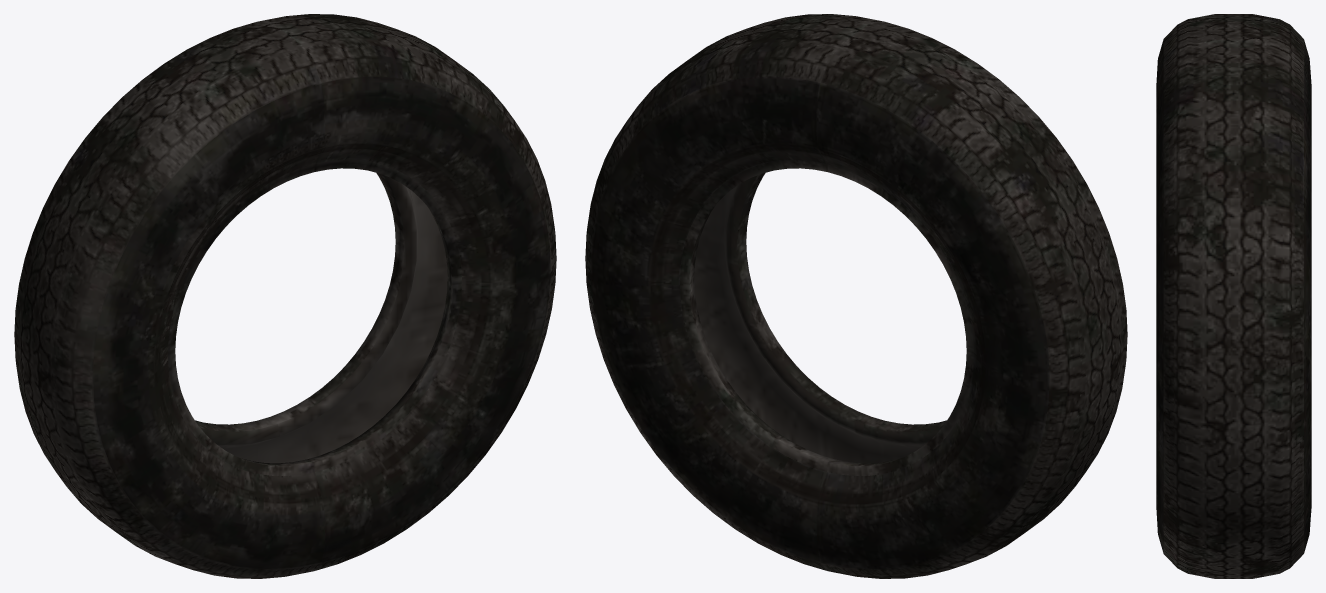
Rendered from old_tyre.glb.
3 views of the same model, side by side, from view 1: azimuth 30°, elevation 25°; view 2: azimuth 150°, elevation 25°; view 3: azimuth 270°, elevation 25° (orthographic). The views are drawn at different scales.
Parts seen in each view (by area): view 1: old_tyre; view 2: old_tyre; view 3: old_tyre.
Part boxes in pixels (x1,y1,x2,y2): old_tyre: [14, 14, 556, 578]; old_tyre: [585, 14, 1127, 578]; old_tyre: [1156, 14, 1311, 578].
Bounding box in the file's own units: 0.6 × 0.6 × 0.165.
1 material, 1 textured.
